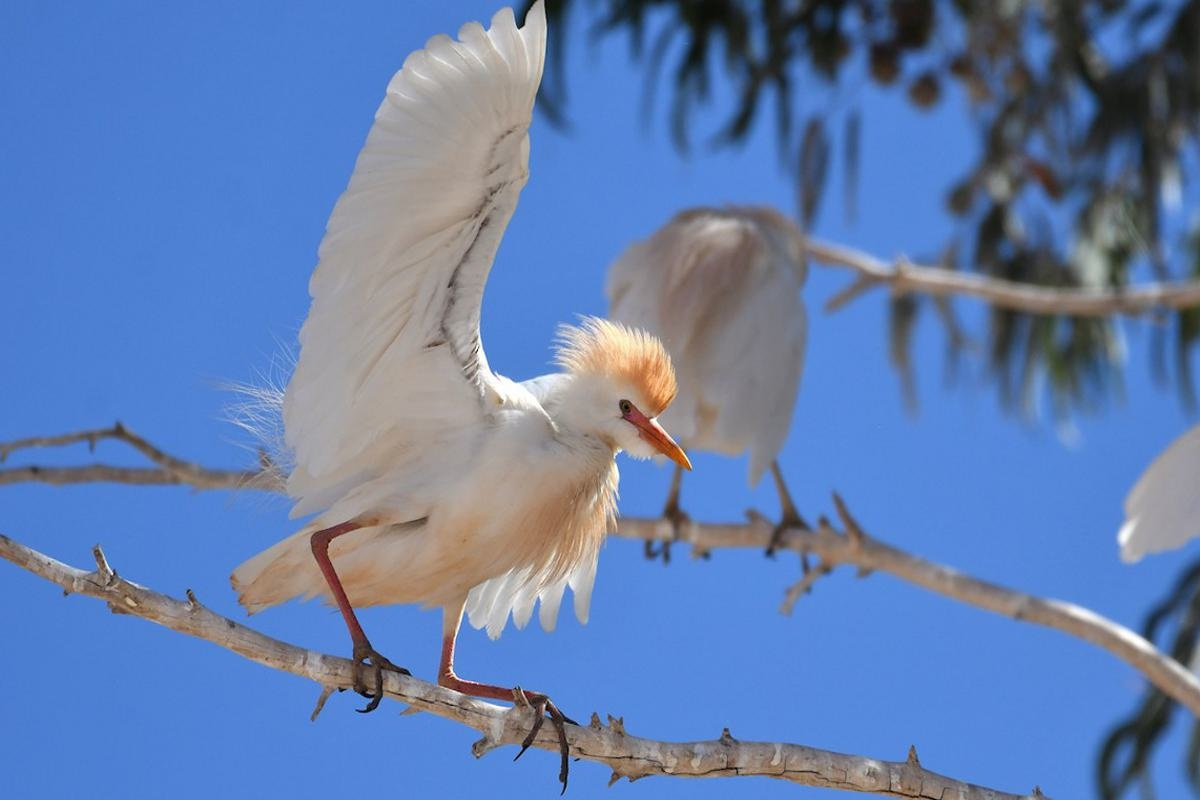egret: (291, 15, 715, 684)
